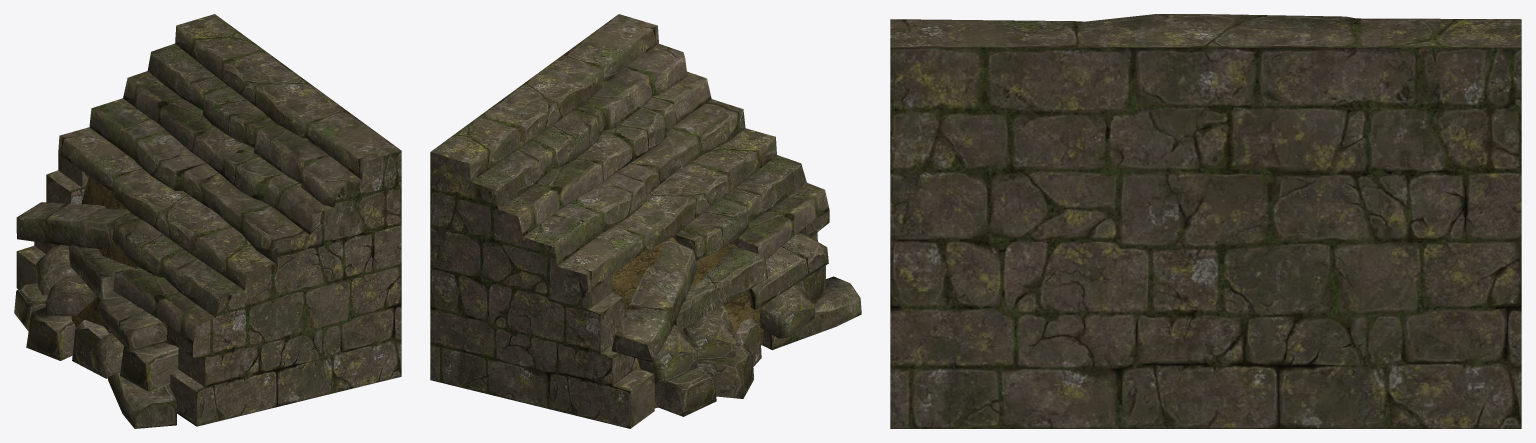
The model's file is Staircase_Broken_01-transformed.glb.
3 views of the same model, side by side, from view 1: azimuth 30°, elevation 25°; view 2: azimuth 150°, elevation 25°; view 3: azimuth 270°, elevation 25° (orthographic). The views are drawn at different scales.
Parts seen in each view (by area): view 1: default; view 2: default; view 3: default.
Boxes of the visible parts, box(x1,y1,x2,y2) form: default: box(14, 14, 401, 428); default: box(430, 14, 861, 428); default: box(890, 14, 1521, 428).
Size of the model in its own units: 4.7 by 4.09 by 6.
3 materials, 3 textured.
